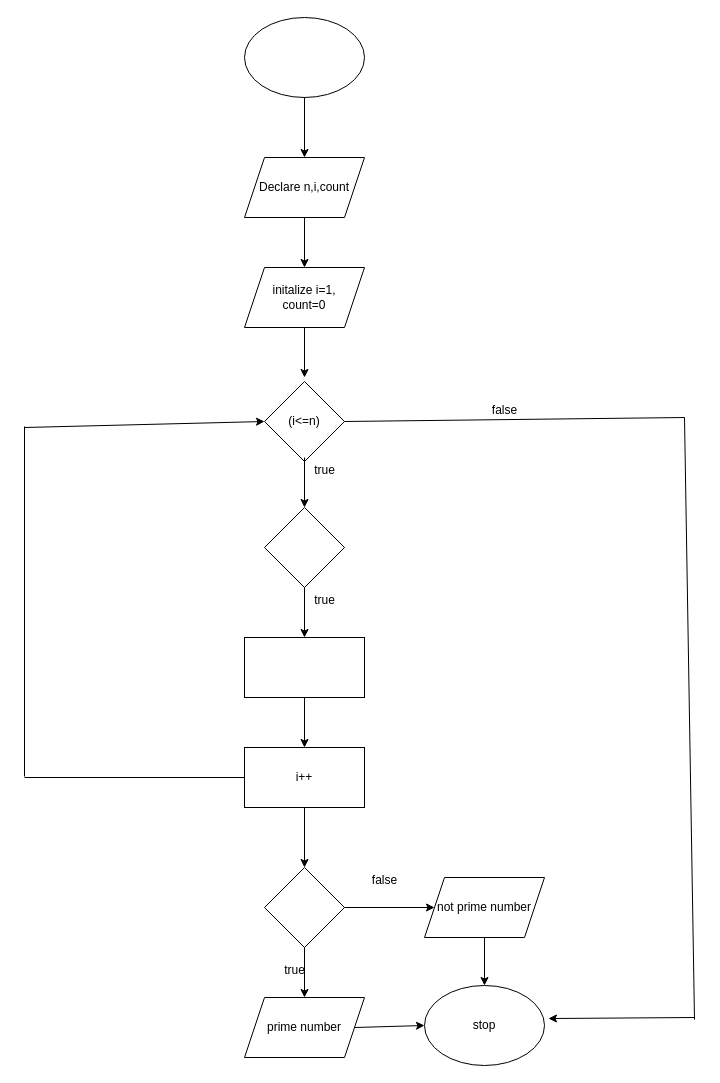
The diagram is 720 pixels wide and 1083 high, and some of its shapes have lost their labels. The shapes that lost their labels are listed below. From the top down, each one's box as (x1, y1, x2, y2) in pixels, then its label:
(244, 16, 364, 98): start
(264, 506, 344, 588): (n%i==0)
(244, 636, 364, 698): count++
(264, 866, 344, 948): (count==2)
